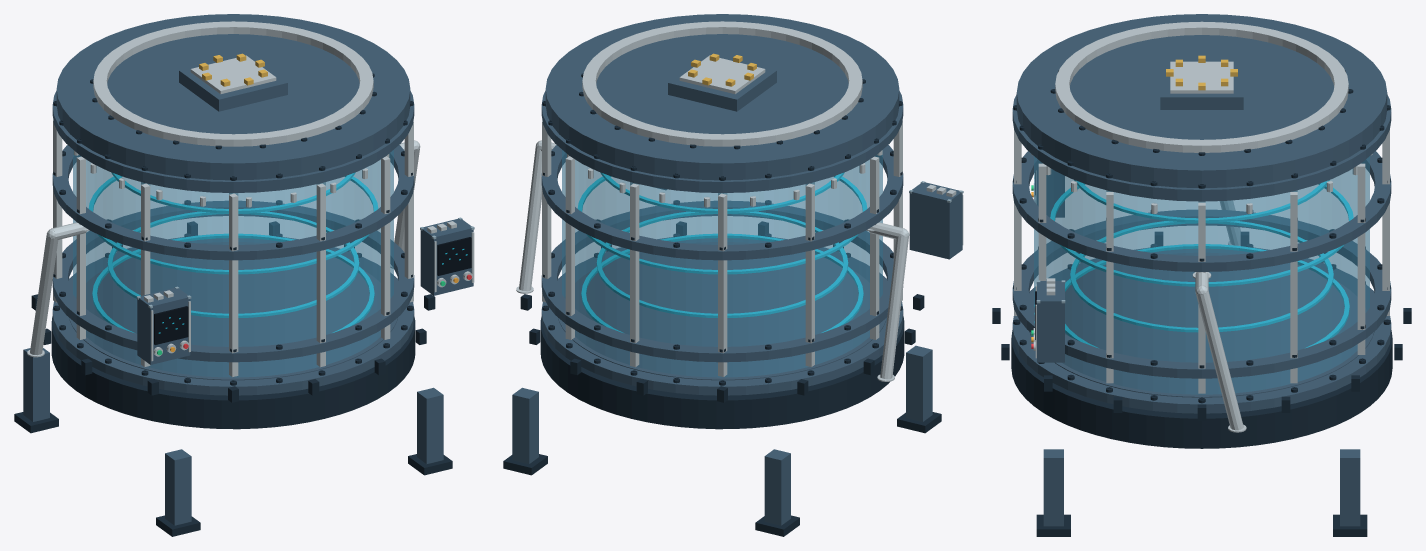
The model's file is 28_L78_LowKPECVDReactor.fbx.
3 renders of one model, left to right at view 1: azimuth 30°, elevation 25°; view 2: azimuth 150°, elevation 25°; view 3: azimuth 270°, elevation 25°, orthographic. The views are drawn at different scales.
Visible parts, largest first — view 1: LowKPECVDReactor, LowKPECVDReactor_Part_0440, LowKPECVDReactor_Part_0441; view 2: LowKPECVDReactor, LowKPECVDReactor_Part_0440, LowKPECVDReactor_Part_0441; view 3: LowKPECVDReactor, LowKPECVDReactor_Part_0440, LowKPECVDReactor_Part_0441.
Part boxes in pixels (x1=…): LowKPECVDReactor: x1=14, y1=14, x2=474, y2=536; LowKPECVDReactor_Part_0440: x1=179, y1=53, x2=287, y2=111; LowKPECVDReactor_Part_0441: x1=190, y1=55, x2=276, y2=93; LowKPECVDReactor: x1=503, y1=14, x2=963, y2=536; LowKPECVDReactor_Part_0440: x1=668, y1=53, x2=776, y2=111; LowKPECVDReactor_Part_0441: x1=679, y1=55, x2=765, y2=94; LowKPECVDReactor: x1=992, y1=14, x2=1411, y2=536; LowKPECVDReactor_Part_0440: x1=1160, y1=62, x2=1243, y2=109; LowKPECVDReactor_Part_0441: x1=1170, y1=61, x2=1233, y2=93.
Size of the model in its own units: 425 by 407 by 392.
